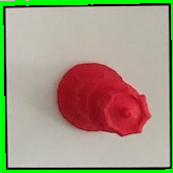Red Queen: (51, 54, 154, 148)
